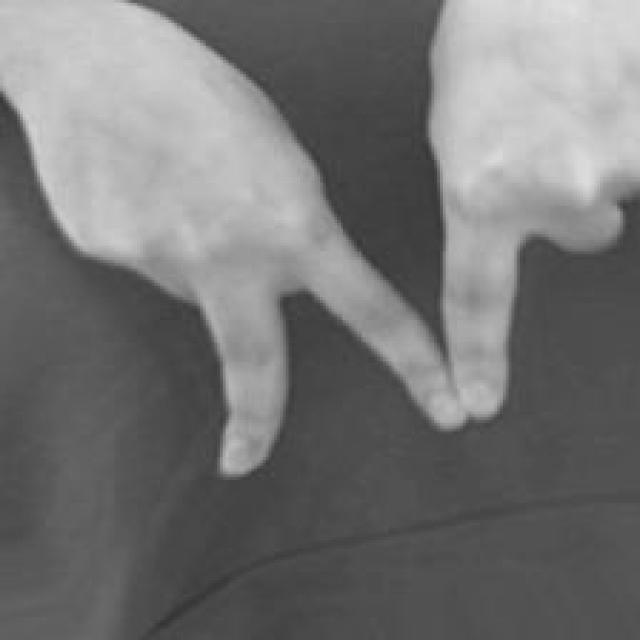N: (5, 2, 640, 491)
